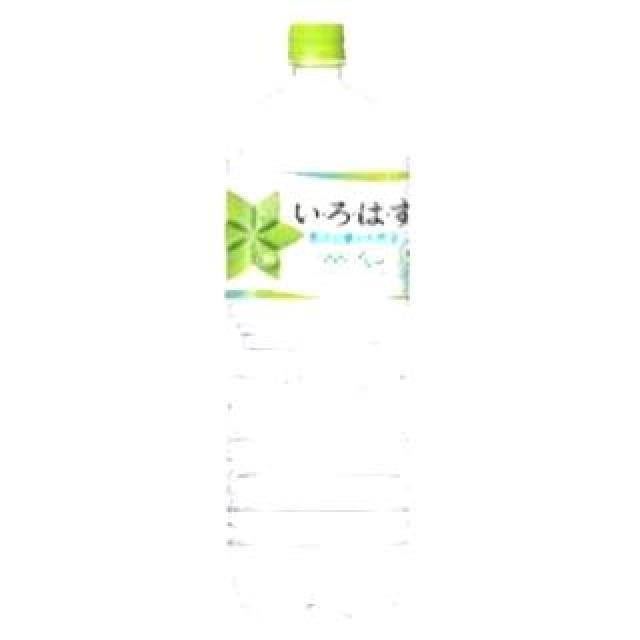Pet_Bottle: (213, 14, 429, 622)
